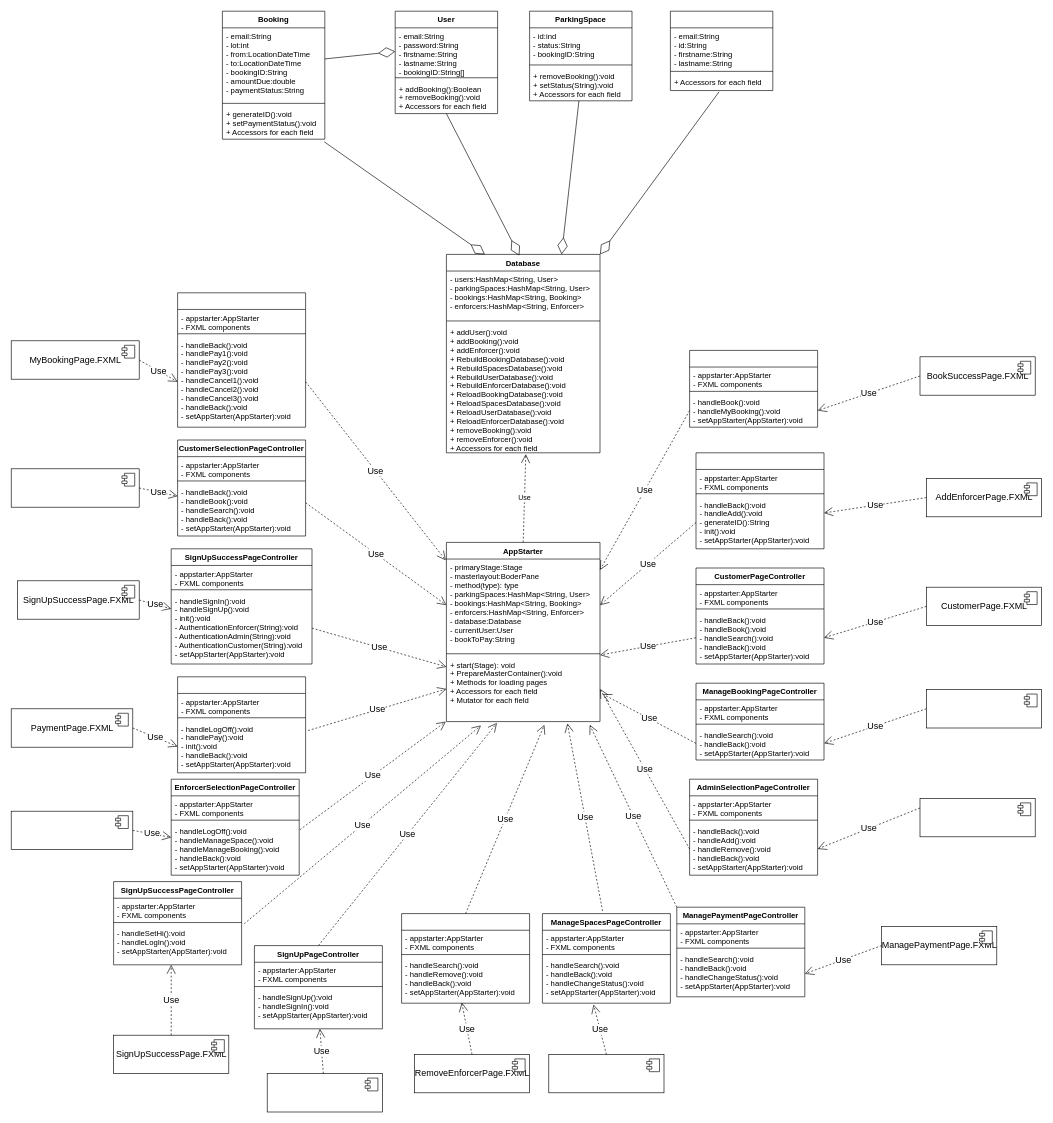
Some shapes in this 1053 by 1123 pixel diagram are drawn without their labels. Each missing label, with the box of its shape:
AddEnforcerController: (695, 452, 824, 549)
AdminSelectionPage.FXML: (919, 798, 1035, 837)
BookSuccessPageController: (689, 350, 818, 427)
CustomerSelectionPage.FXML: (11, 468, 139, 507)
Enforcer: (670, 11, 773, 91)
EnforcerSelectionPage.FXML: (11, 811, 133, 850)
ManageBookingPage.FXML: (926, 689, 1042, 728)
ManageSpacesPage.FXML: (548, 1054, 664, 1093)
MyBookingPageController: (177, 292, 306, 427)
PaymentPageController: (177, 676, 306, 773)
RemoveEnforcerPageController: (401, 913, 530, 1003)
SignUpPage.FXML: (267, 1073, 382, 1112)
